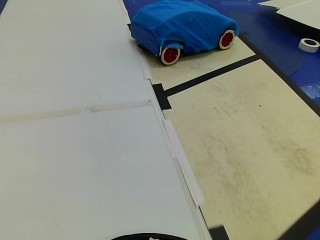car: (126, 0, 243, 68)
